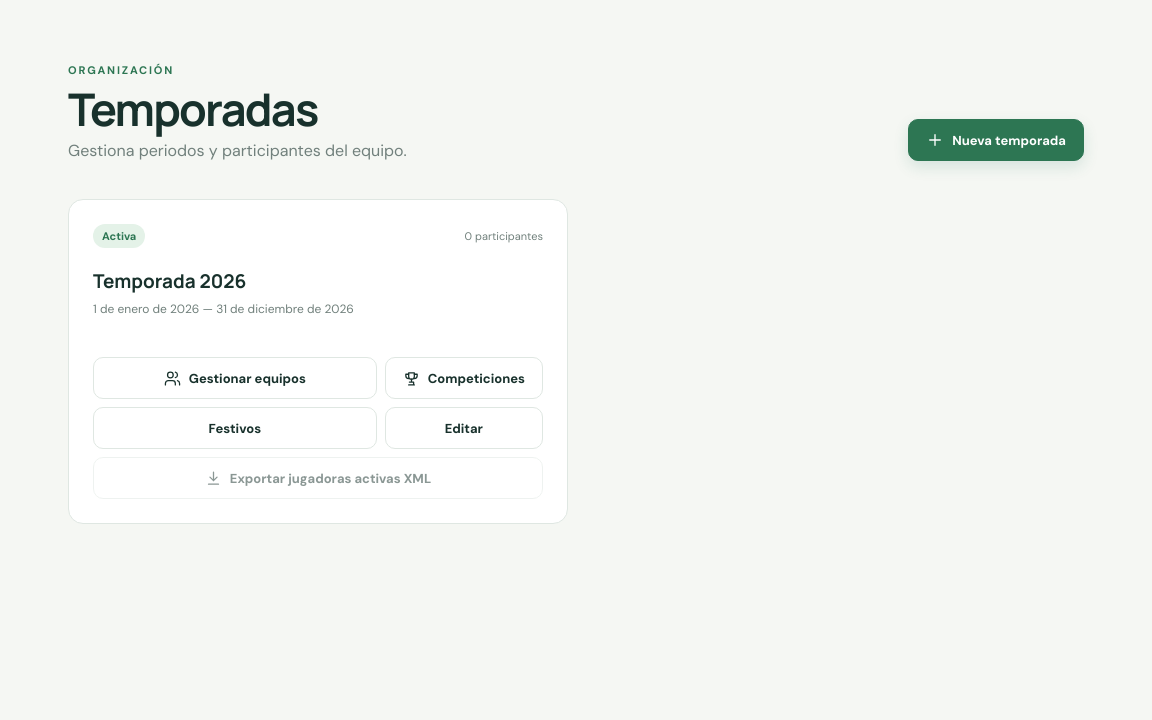
Test: SeasonsView › discards unsaved coach changes when cancelling
Click the button "Gestionar equipos" at (235, 378), box [93,357,377,399]
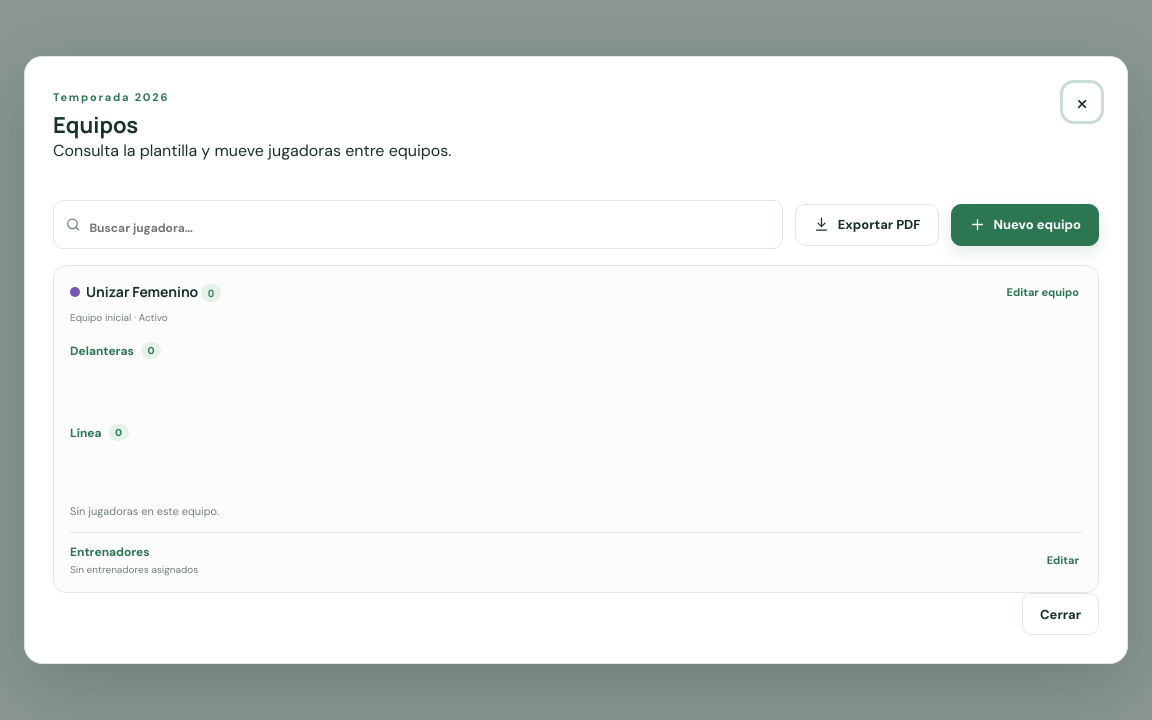
Click the button "Editar" at (1063, 560), box [1044,550,1082,570]
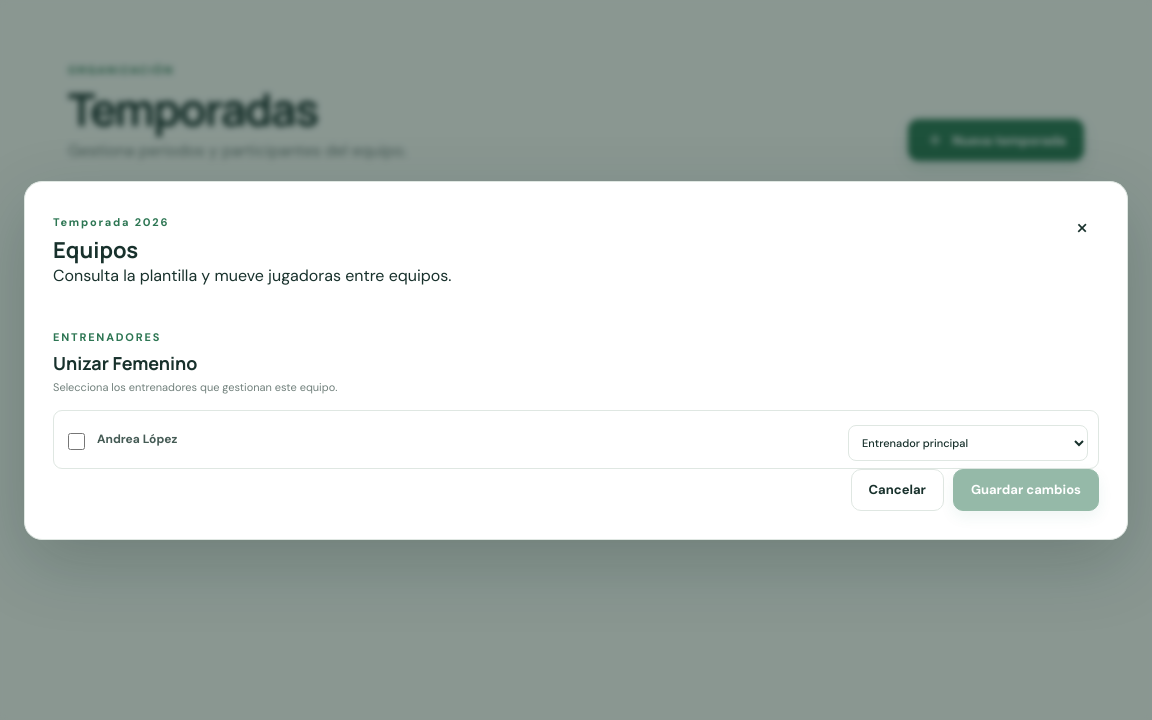
Click the checkbox labelled "Andrea López" at (76, 441), box [68,432,85,450]
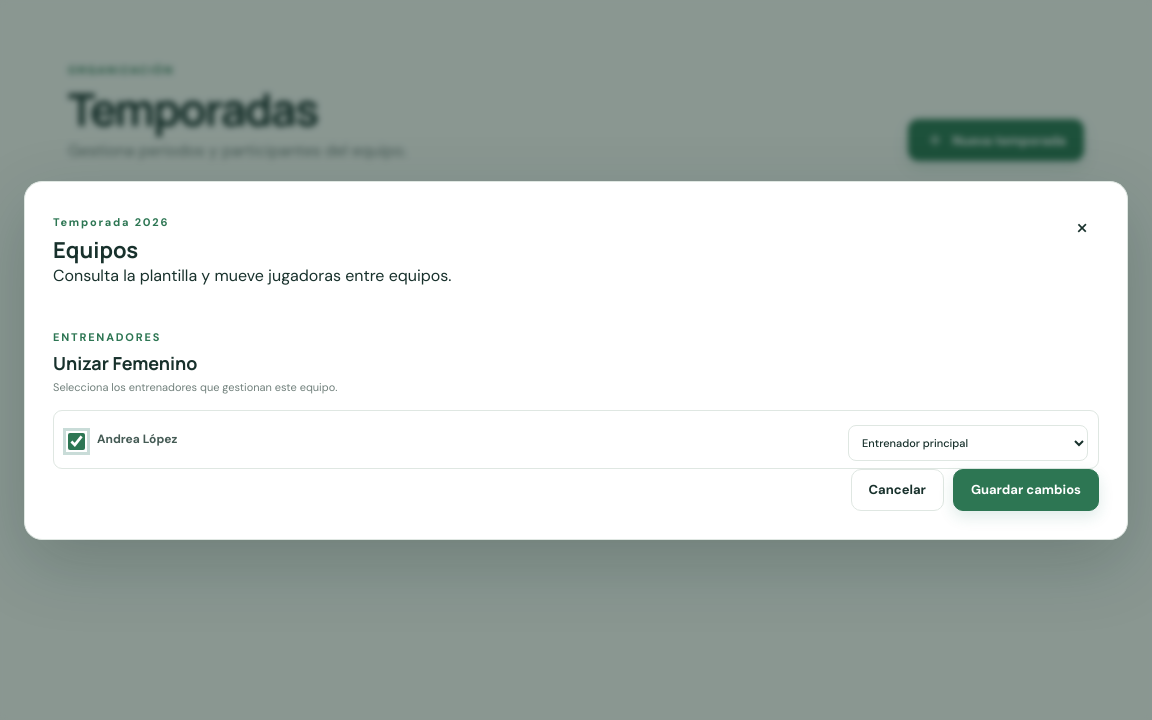
Click the button "Cancelar" at (897, 490), box [850,468,944,510]
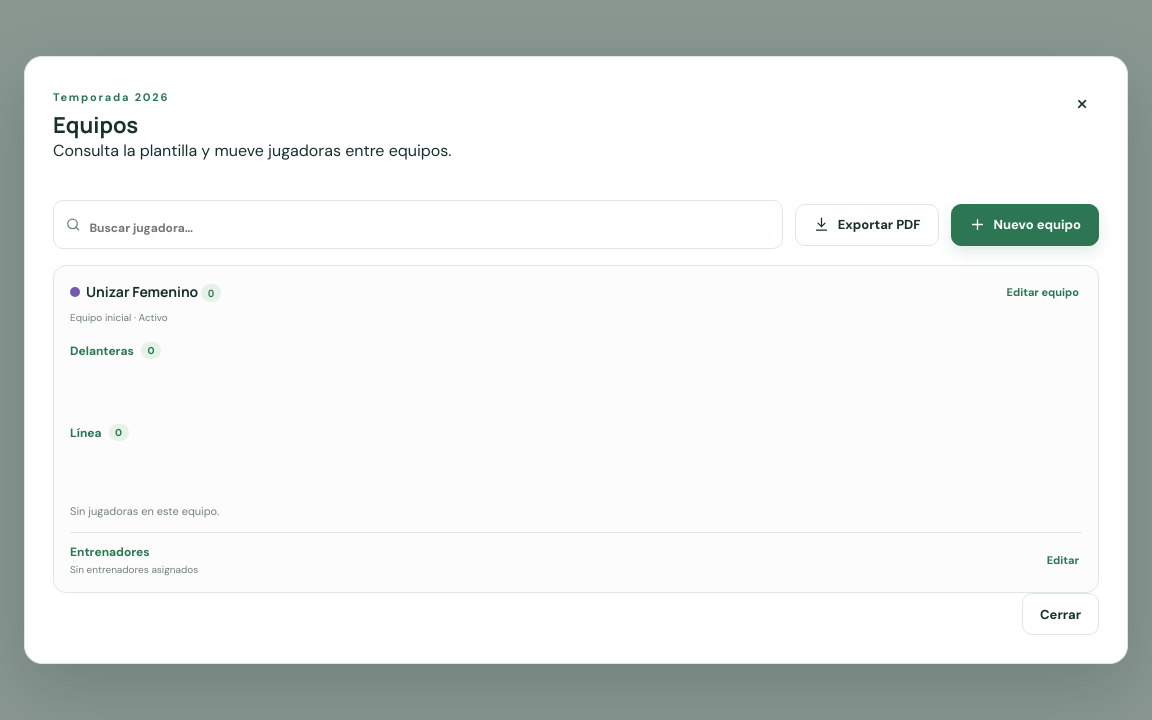
Click the button "Editar" at (1063, 560), box [1044,550,1082,570]
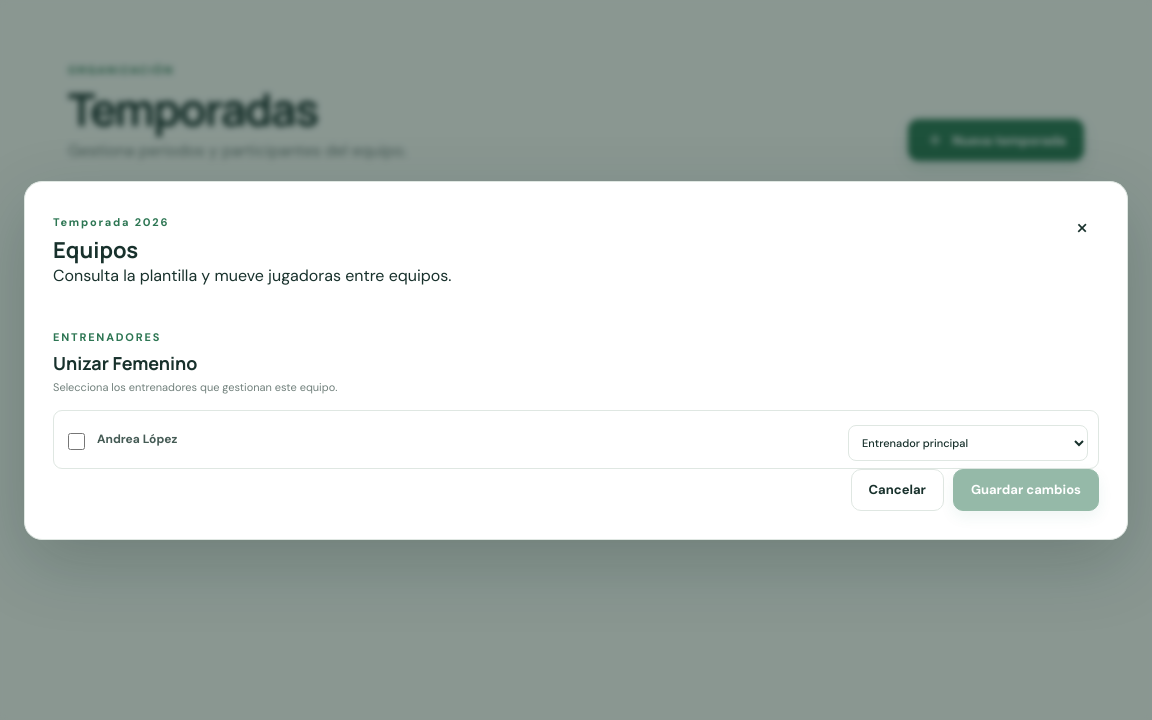
Expected: the checkbox labelled "Andrea López" is not checked, [68,432,85,450]
Expected: the button "Guardar cambios" is disabled, [953,468,1099,510]
